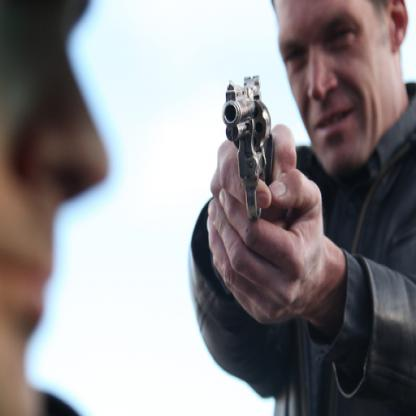gun: (221, 75, 277, 221)
